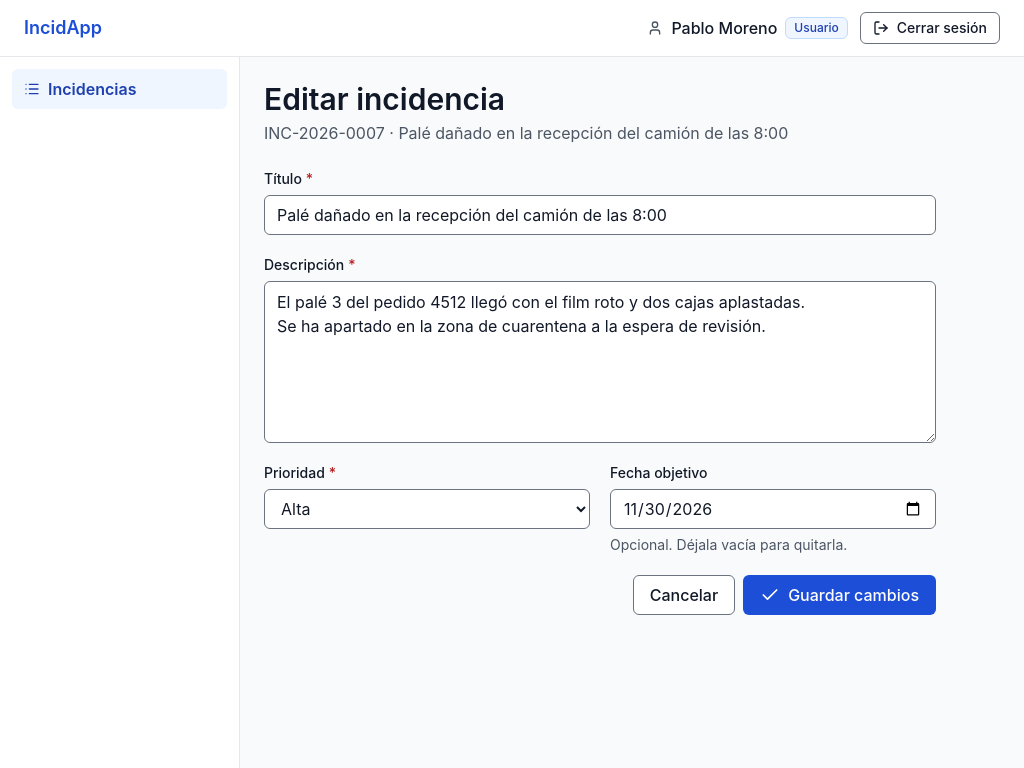
Scenario: CA-03.15 · edición desde la web › un 403 (p. ej., la incidencia ya no está abierta) se muestra en español
Step 1. Click the button "Guardar cambios" → (840, 595), box [743,575,936,615]
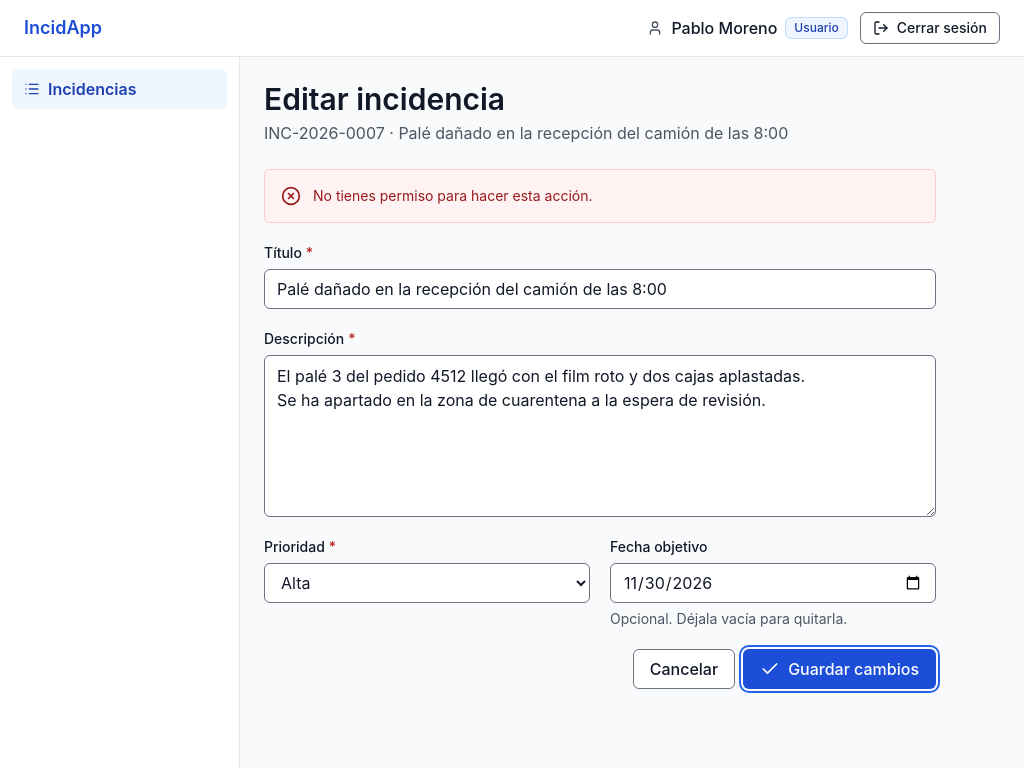
Expected: the field labelled "Título*" holds "Palé dañado en la recepción del camión de las 8:00", [264,269,936,309]
Expected: the message reads "No tienes permiso para hacer esta acción.", [313,187,592,204]
